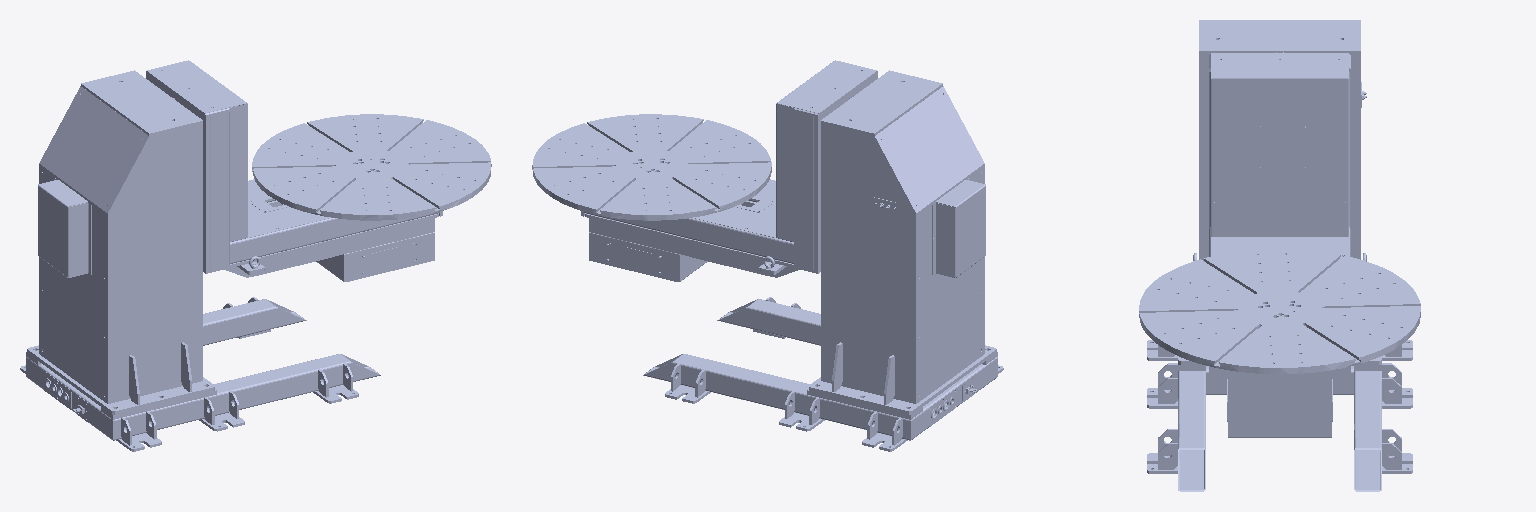
The robot description file, URDF, robot "2AxisPositioner":
<?xml version="1.0" encoding="utf-8"?>
<!-- This URDF was automatically created by SolidWorks to URDF Exporter! Originally created by [author] ([email redacted]) 
     Commit Version: 1.5.1-0-g916b5db  Build Version: 1.5.7152.31018
     For more information, please see http://wiki.ros.org/sw_urdf_exporter -->
<robot
  name="2AxisPositioner">
  <link
    name="base_link">
    <inertial>
      <origin
        xyz="-1.1 -0.56584 0.00021321"
        rpy="0 0 0" />
      <mass
        value="49.206" />
      <inertia
        ixx="4.574"
        ixy="-0.072183"
        ixz="-0.0083247"
        iyy="2.9548"
        iyz="0.00042124"
        izz="4.5224" />
    </inertial>
    <visual>
      <origin
        xyz="0 0 0"
        rpy="0 0 0" />
      <geometry>
        <mesh
          filename="package://2AxisPositioner/meshes/base_link.STL" />
      </geometry>
      <material
        name="">
        <color
          rgba="0.79216 0.81961 0.93333 1" />
      </material>
    </visual>
    <collision>
      <origin
        xyz="0 0 0"
        rpy="0 0 0" />
      <geometry>
        <mesh
          filename="package://2AxisPositioner/meshes/base_link.STL" />
      </geometry>
    </collision>
  </link>
  <link
    name="link1">
    <inertial>
      <origin
        xyz="2.0125E-05 -0.31436 -0.58134"
        rpy="0 0 0" />
      <mass
        value="27.202" />
      <inertia
        ixx="1.6671"
        ixy="-4.6333E-06"
        ixz="-1.0232E-05"
        iyy="1.649"
        iyz="0.00077822"
        izz="0.86632" />
    </inertial>
    <visual>
      <origin
        xyz="0 0 0"
        rpy="0 0 0" />
      <geometry>
        <mesh
          filename="package://2AxisPositioner/meshes/link1.STL" />
      </geometry>
      <material
        name="">
        <color
          rgba="0.79216 0.81961 0.93333 1" />
      </material>
    </visual>
    <collision>
      <origin
        xyz="0 0 0"
        rpy="0 0 0" />
      <geometry>
        <mesh
          filename="package://2AxisPositioner/meshes/link1.STL" />
      </geometry>
    </collision>
  </link>
  <joint
    name="joint1"
    type="continuous">
    <origin
      xyz="0 0 0"
      rpy="1.5708 0 1.5708" />
    <parent
      link="base_link" />
    <child
      link="link1" />
    <axis
      xyz="0 0 1" />
    <limit
      lower="-3.14"
      upper="3.14"
      effort="0"
      velocity="0" />
  </joint>
  <link
    name="link2">
    <inertial>
      <origin
        xyz="-1.2886E-11 2.7336E-06 -0.013527"
        rpy="0 0 0" />
      <mass
        value="19.691" />
      <inertia
        ixx="1.1964"
        ixy="-3.1057E-11"
        ixz="-1.314E-12"
        iyy="1.1964"
        iyz="1.4844E-07"
        izz="2.3901" />
    </inertial>
    <visual>
      <origin
        xyz="0 0 0"
        rpy="0 0 0" />
      <geometry>
        <mesh
          filename="package://2AxisPositioner/meshes/link2.STL" />
      </geometry>
      <material
        name="">
        <color
          rgba="0.79216 0.81961 0.93333 1" />
      </material>
    </visual>
    <collision>
      <origin
        xyz="0 0 0"
        rpy="0 0 0" />
      <geometry>
        <mesh
          filename="package://2AxisPositioner/meshes/link2.STL" />
      </geometry>
    </collision>
  </link>
  <joint
    name="joint2"
    type="continuous">
    <origin
      xyz="0 -0.32 0"
      rpy="-1.5708 1.1078 0" />
    <parent
      link="link1" />
    <child
      link="link2" />
    <axis
      xyz="0 0 1" />
    <limit
      lower="-7.28"
      upper="7.28"
      effort="0"
      velocity="0" />
  </joint>
</robot>

--- Facts derived from the render (not from the file) ---
The picture shows the robot from 3 angles, left to right: view 1: azimuth 30°, elevation 25°; view 2: azimuth 150°, elevation 25°; view 3: azimuth 270°, elevation 25°; orthographic projection.
Robot: 2AxisPositioner — 3 links, 2 joints (2 continuous); root link base_link; default pose: every joint at zero.
Visible links, largest first — view 1: base_link, link1, link2; view 2: base_link, link1, link2; view 3: link1, link2, base_link.
Link boxes in pixels (left/top/right/bottom): base_link: left=20, top=70, right=380, bottom=451; link1: left=146, top=60, right=442, bottom=281; link2: left=252, top=114, right=491, bottom=220; base_link: left=643, top=70, right=1003, bottom=451; link1: left=581, top=60, right=877, bottom=281; link2: left=532, top=114, right=771, bottom=220; link1: left=1193, top=53, right=1366, bottom=437; link2: left=1139, top=249, right=1420, bottom=374; base_link: left=1147, top=20, right=1412, bottom=491.
Size in the robot's own frame: 2.04 by 1 by 1.36 metres.
3 mesh visuals loaded from 3 distinct referenced files (3 binary STL).